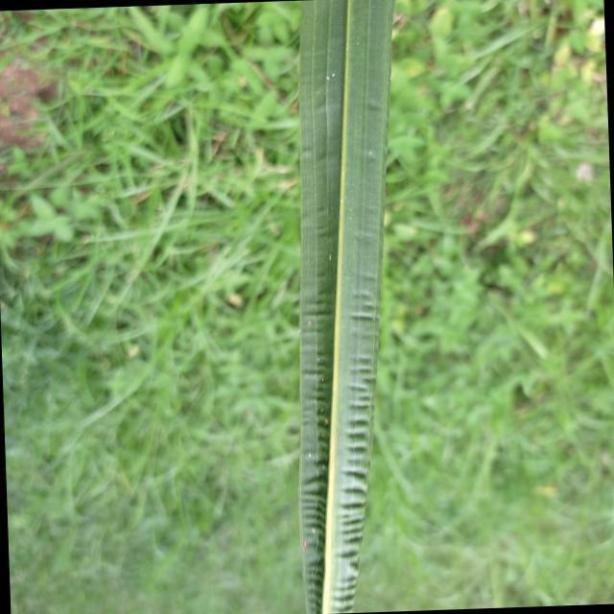Boron: (296, 0, 392, 614)
